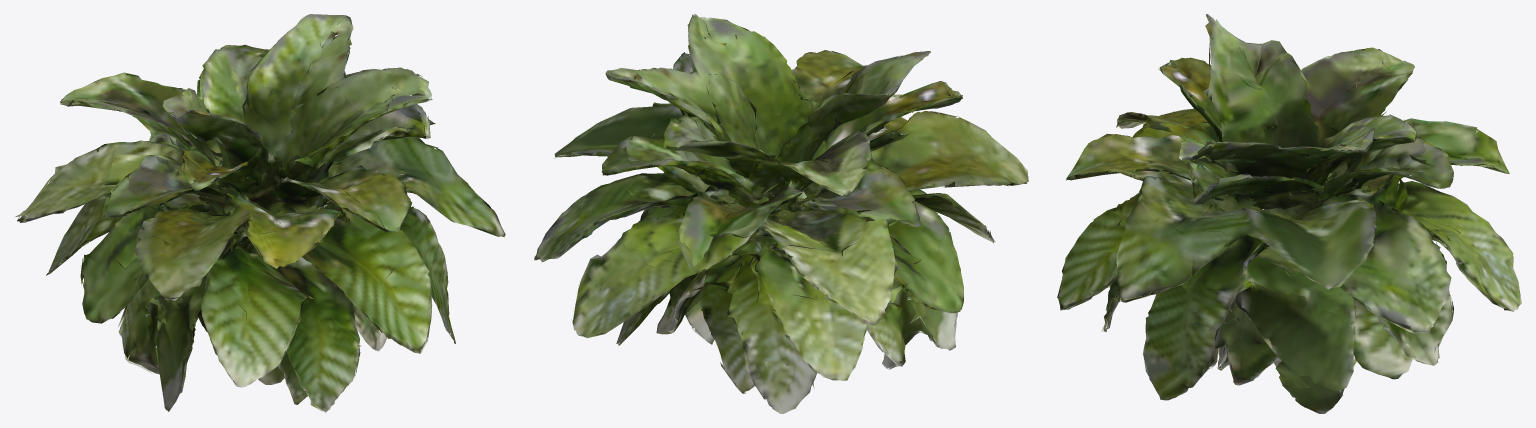
The model's file is F3D_14_Fern.fbx.
3 renders of one model, left to right at view 1: azimuth 30°, elevation 25°; view 2: azimuth 150°, elevation 25°; view 3: azimuth 270°, elevation 25°, orthographic. The views are drawn at different scales.
Parts seen in each view (by area): view 1: F3D_14_Fern; view 2: F3D_14_Fern; view 3: F3D_14_Fern.
Part boxes in pixels (x1=…): F3D_14_Fern: x1=15, y1=14, x2=505, y2=412; F3D_14_Fern: x1=534, y1=14, x2=1028, y2=413; F3D_14_Fern: x1=1057, y1=14, x2=1521, y2=413.
Size of the model in its own units: 1.24 by 1 by 1.37.
1 material, 1 textured.
